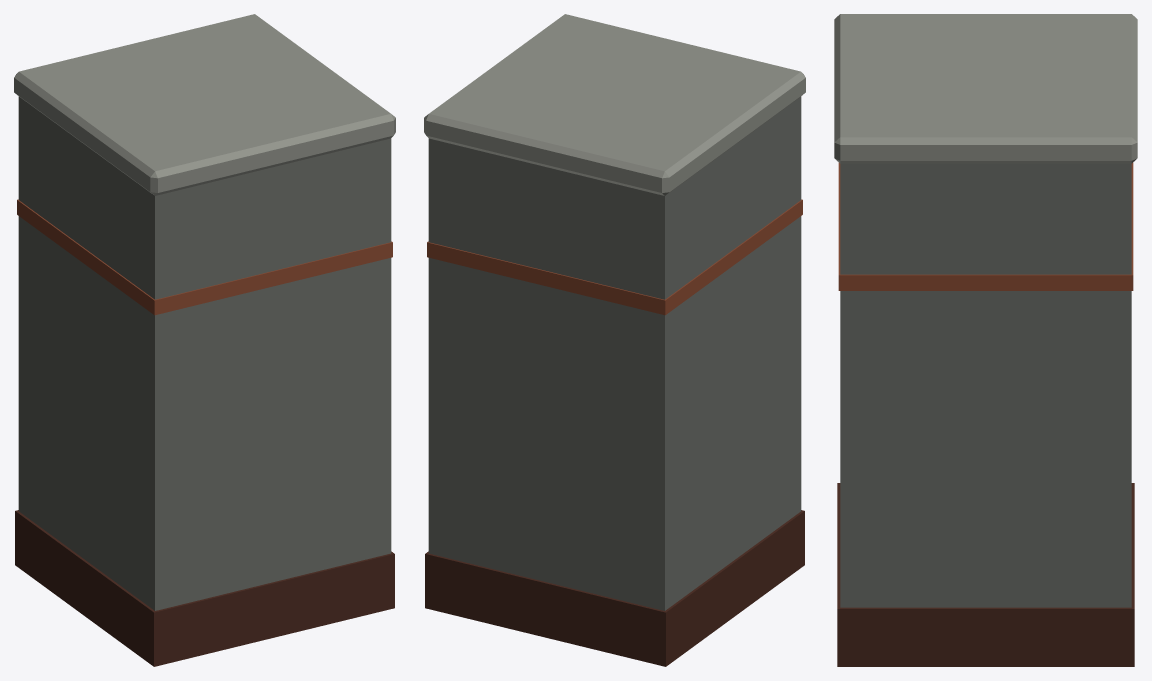
File: kit_wall.glb
The picture shows the model from 3 angles, left to right: view 1: azimuth 30°, elevation 25°; view 2: azimuth 150°, elevation 25°; view 3: azimuth 270°, elevation 25°; orthographic projection. The views are drawn at different scales.
Parts seen in each view (by area): view 1: wall, cap, skirt, band; view 2: wall, cap, skirt, band; view 3: wall, cap, skirt, band.
Boxes of the visible parts, left/top/right/bottom form: wall: left=18, top=96, right=391, bottom=610; cap: left=14, top=14, right=395, bottom=195; skirt: left=15, top=510, right=394, bottom=666; band: left=17, top=199, right=392, bottom=315; wall: left=428, top=96, right=801, bottom=610; cap: left=424, top=14, right=805, bottom=195; skirt: left=425, top=510, right=804, bottom=666; band: left=427, top=199, right=802, bottom=315; wall: left=840, top=163, right=1131, bottom=607; cap: left=834, top=14, right=1137, bottom=163; skirt: left=837, top=483, right=1134, bottom=666; band: left=838, top=162, right=1133, bottom=290.
Size of the model in its own units: 1.04 by 2 by 1.04.
